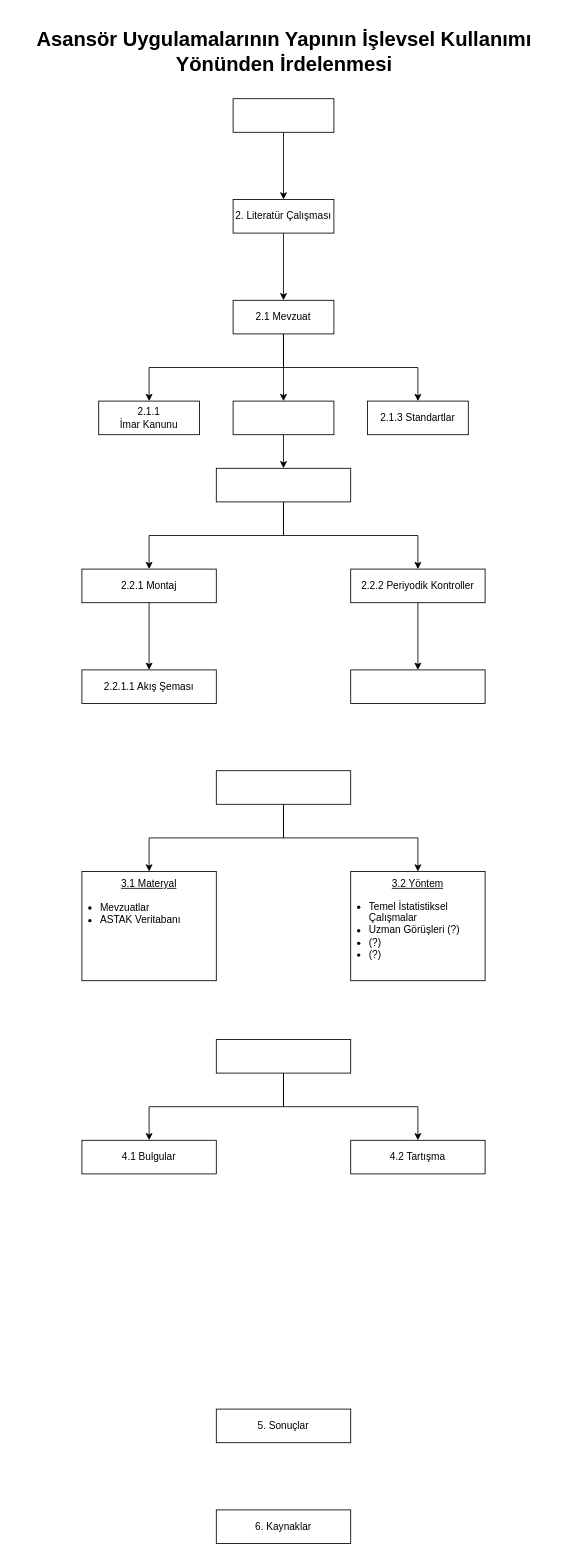
The diagram is 566 pixels wide and 1558 high, and some of its shapes have lost their labels. The centre of each missing label's shape, as x and y in pixels:
"1. Giriş" belongs at pixel 283 115.
"2.1.2 Asansör Mevzuatları" belongs at pixel 283 417.
"2.2 Asansör Uygulamaları Süreçleri" belongs at pixel 283 484.
"2.2.2.1 Akış Şeması" belongs at pixel 417 686.
"3. Materyal ve Yöntem" belongs at pixel 283 787.
"4. Bulgular ve Tartışma" belongs at pixel 283 1056.
